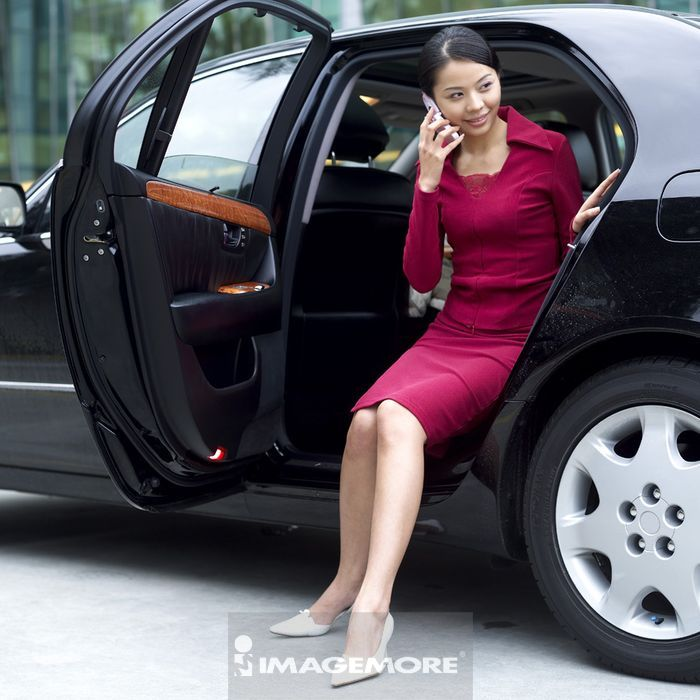talk: (417, 66, 498, 188)
